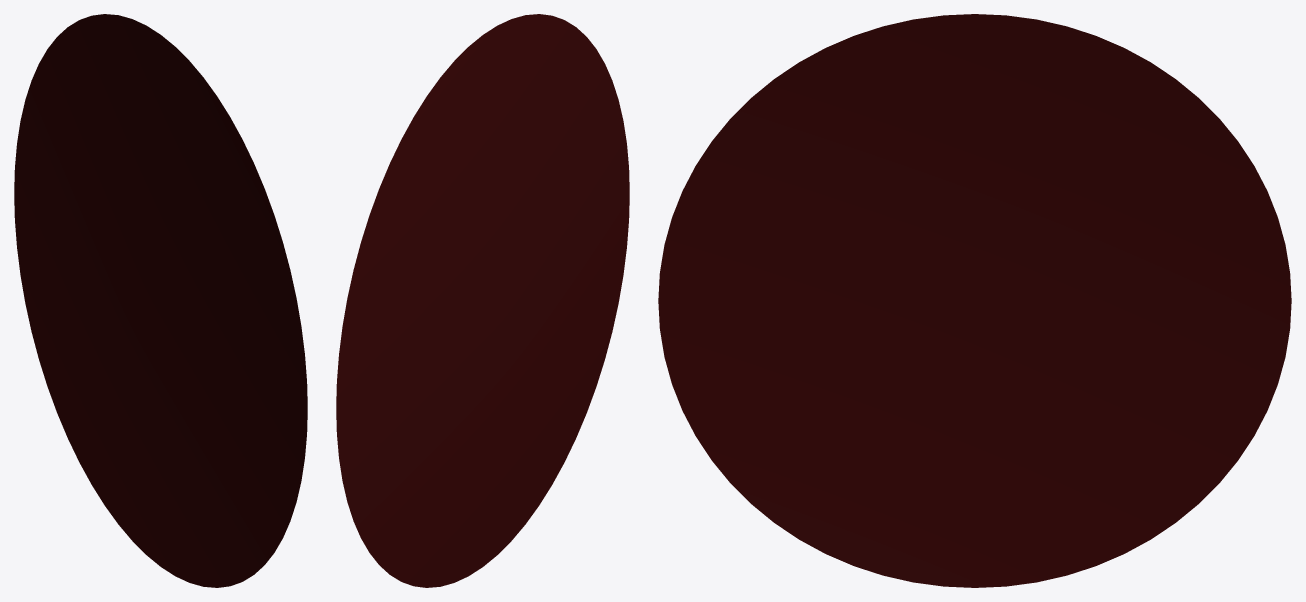
The model's file is SM_RS_RedLens.fbx.
3 renders of one model, left to right at view 1: azimuth 30°, elevation 25°; view 2: azimuth 150°, elevation 25°; view 3: azimuth 270°, elevation 25°, orthographic. The views are drawn at different scales.
Parts seen in each view (by area): view 1: SM_RS_RedLens; view 2: SM_RS_RedLens; view 3: SM_RS_RedLens.
Boxes of the visible parts, x1,y1,x2,y2 form: SM_RS_RedLens: (14, 14, 307, 587); SM_RS_RedLens: (336, 14, 629, 587); SM_RS_RedLens: (658, 14, 1291, 587).
Size of the model in its own units: 1.8 by 46.4 by 46.4.
